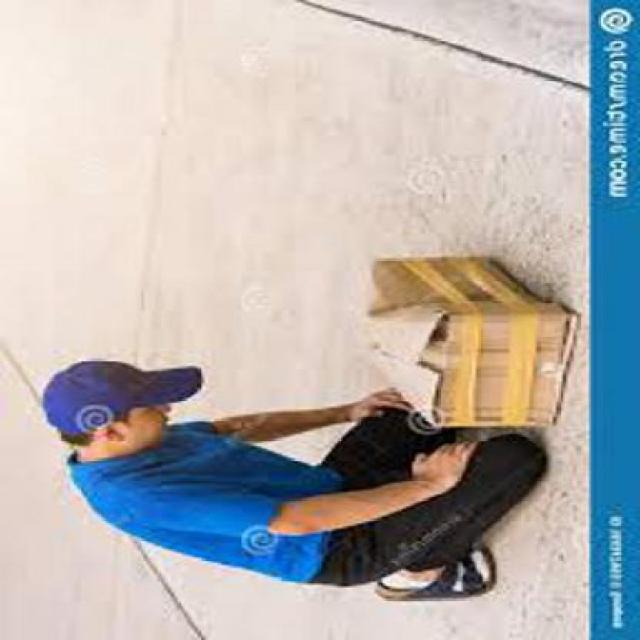defect: (351, 244, 580, 438)
